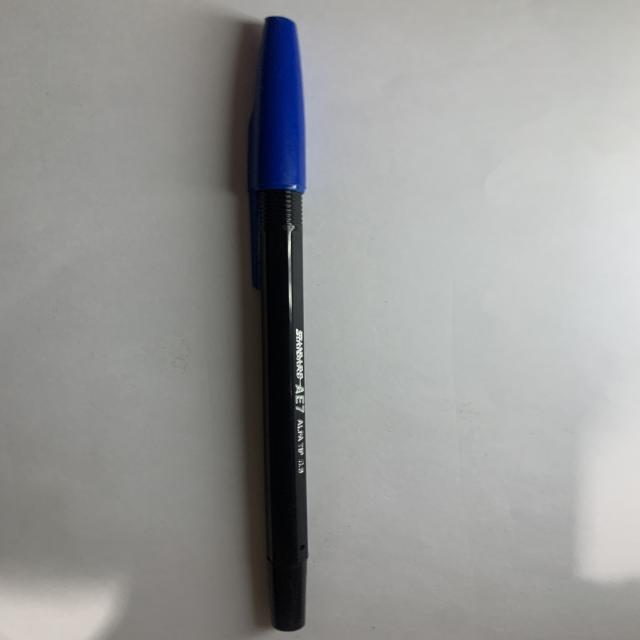Pulpen: (230, 8, 340, 637)
